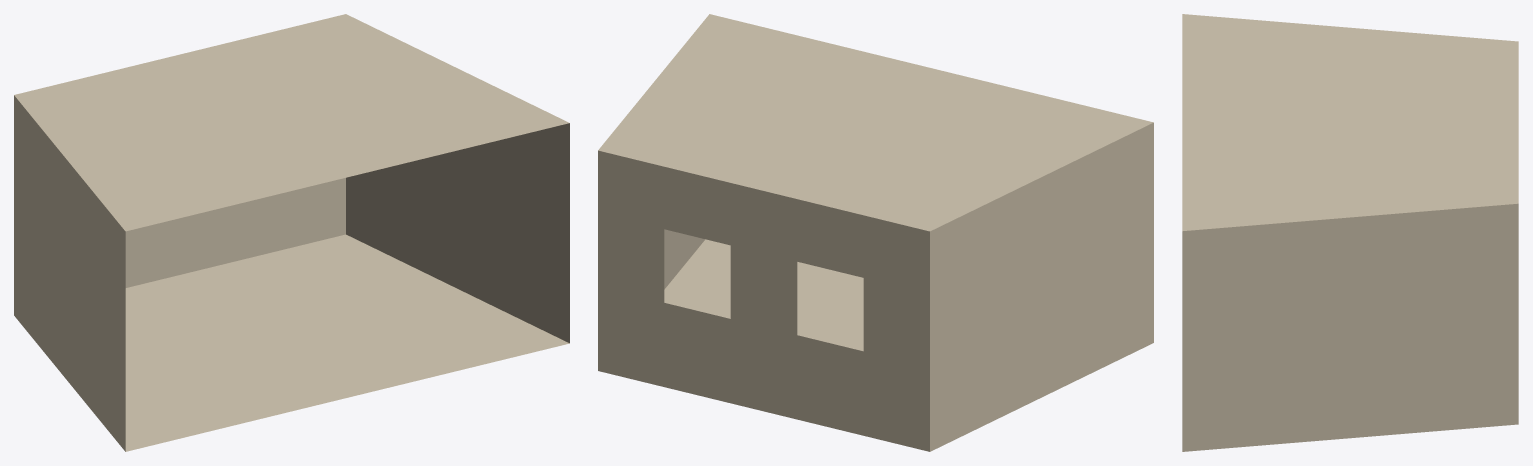
Rendered from set.dae.
3 views of the same model, side by side, from view 1: azimuth 30°, elevation 25°; view 2: azimuth 150°, elevation 25°; view 3: azimuth 270°, elevation 25° (orthographic).
Visible parts, largest first — view 1: Plane; view 2: Plane; view 3: Plane.
Boxes of the visible parts, box(x1,y1,x2,y2) form: Plane: box(14, 14, 569, 451); Plane: box(598, 14, 1153, 451); Plane: box(1182, 14, 1518, 451).
Size of the model in its own units: 8.97 by 5.86 by 4.25.
